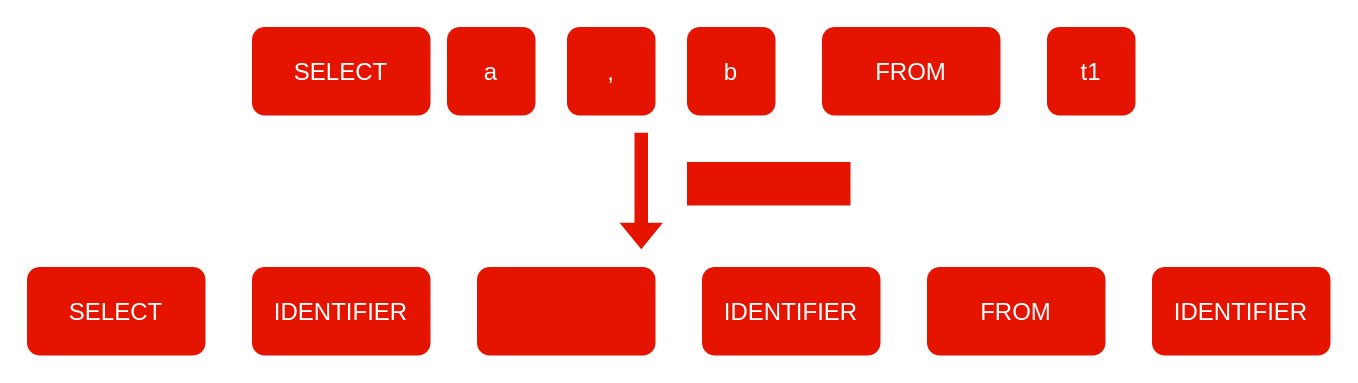
This 1358x383 diagram has some shape labels left out. Each missing label, with the box of its shape:
COMMA: (475, 265, 656, 356)
直接标记: (685, 160, 851, 206)
